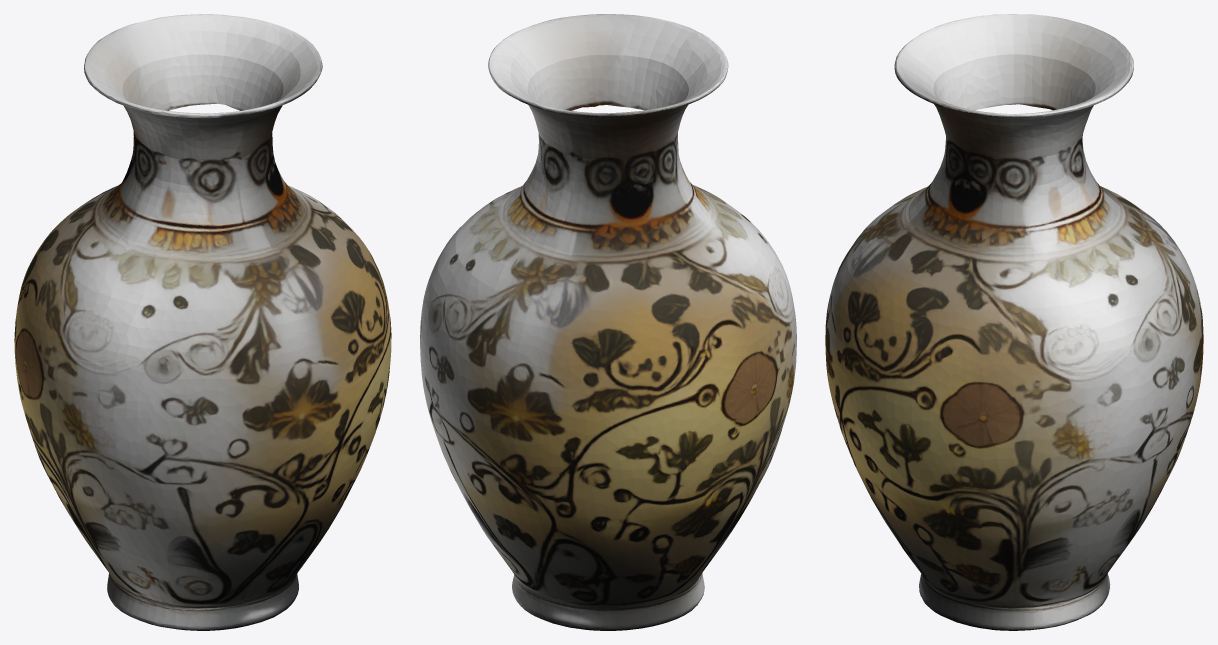
File: porcelain-vase-3d.jpeg.glb
3 views of the same model, side by side, from view 1: azimuth 30°, elevation 25°; view 2: azimuth 150°, elevation 25°; view 3: azimuth 270°, elevation 25° (orthographic).
Parts seen in each view (by area): view 1: world; view 2: world; view 3: world.
Part boxes in pixels (left/top/right/bottom): world: left=14, top=14, right=391, bottom=630; world: left=420, top=14, right=796, bottom=630; world: left=825, top=14, right=1203, bottom=630.
Size of the model in its own units: 0.6527 by 1 by 0.6505.
1 material, 1 textured.
